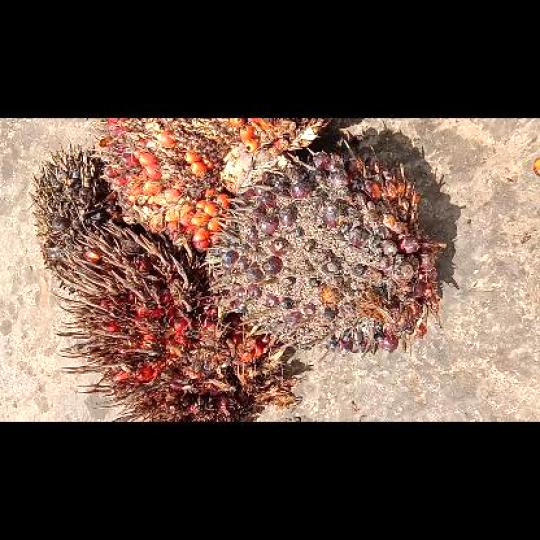kurang masak: (207, 141, 439, 352)
masak: (95, 118, 328, 248)
terlalu masak: (52, 228, 296, 421)
